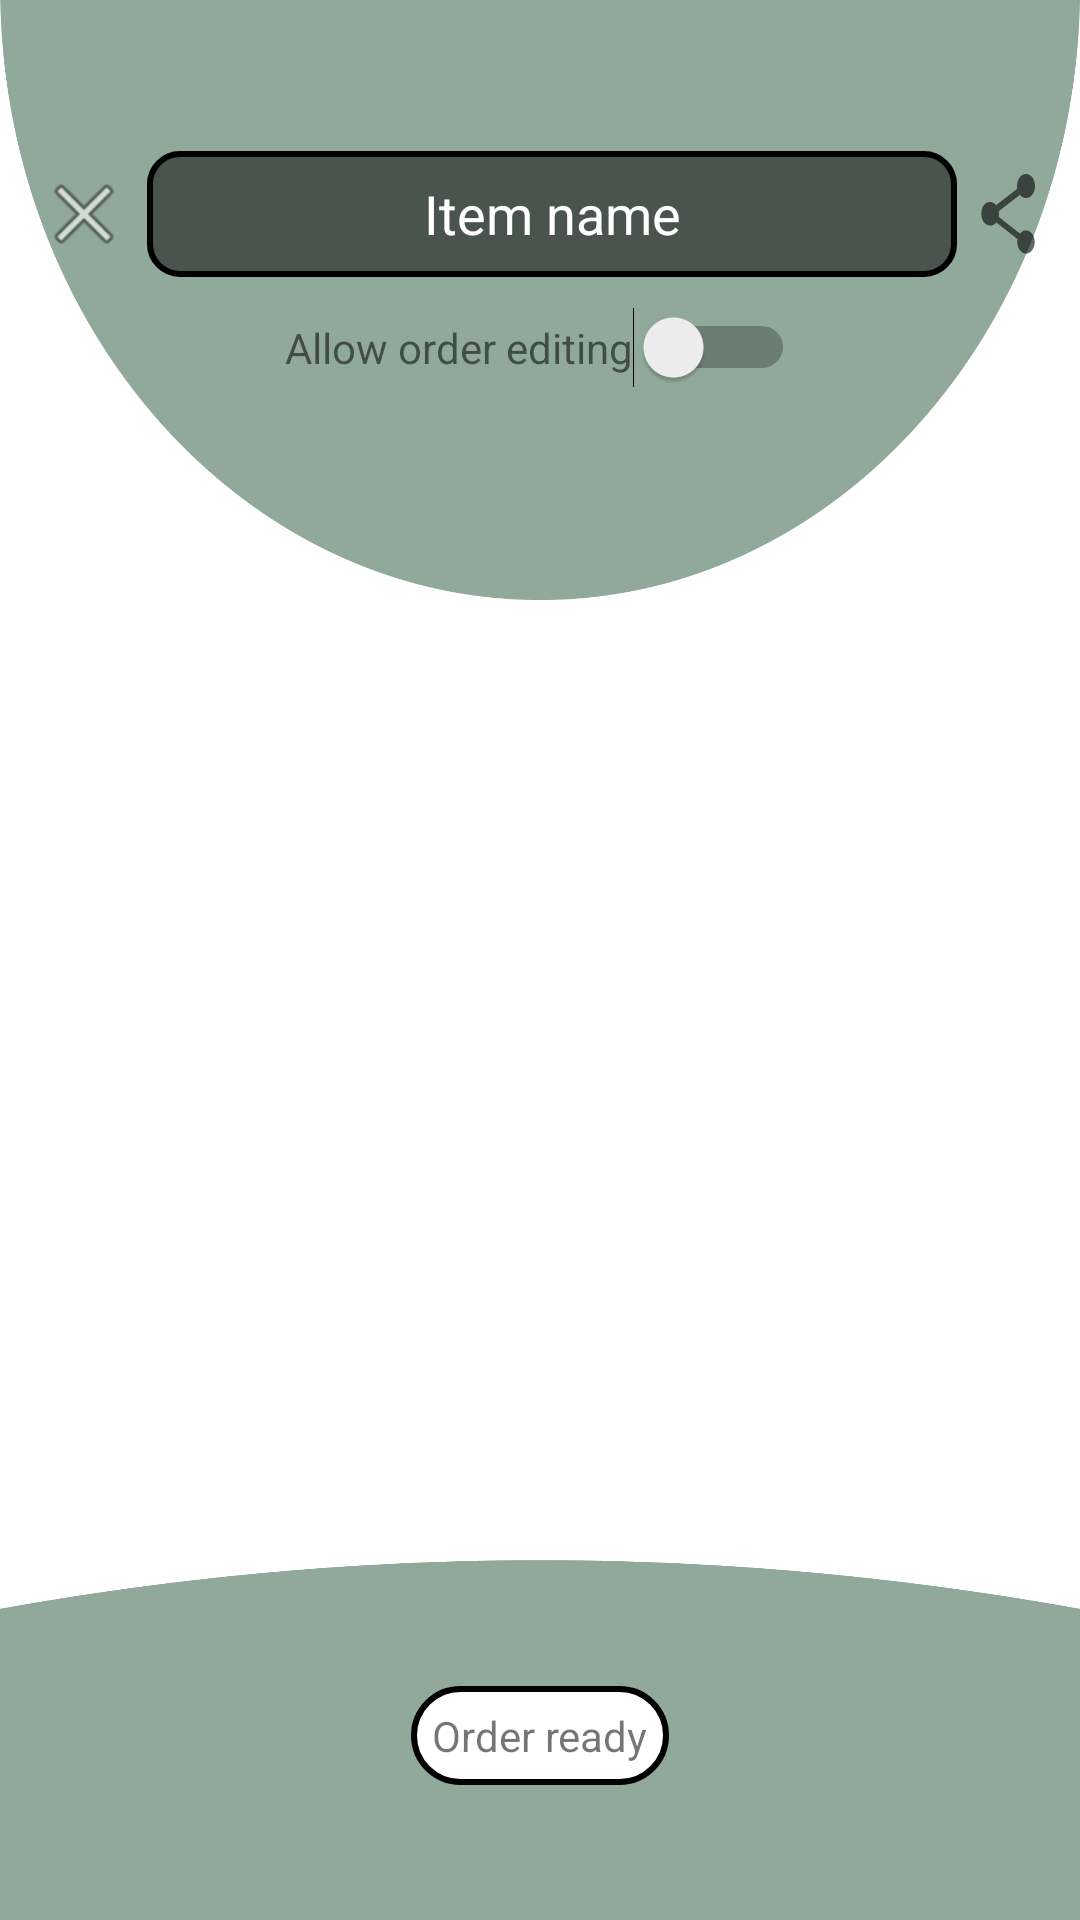

Point at icon controls on the screen. Image size 1080 x 1920, points as (x=x, y=y).
close clear cancel: (x=84, y=214)
share: (x=1012, y=218)
